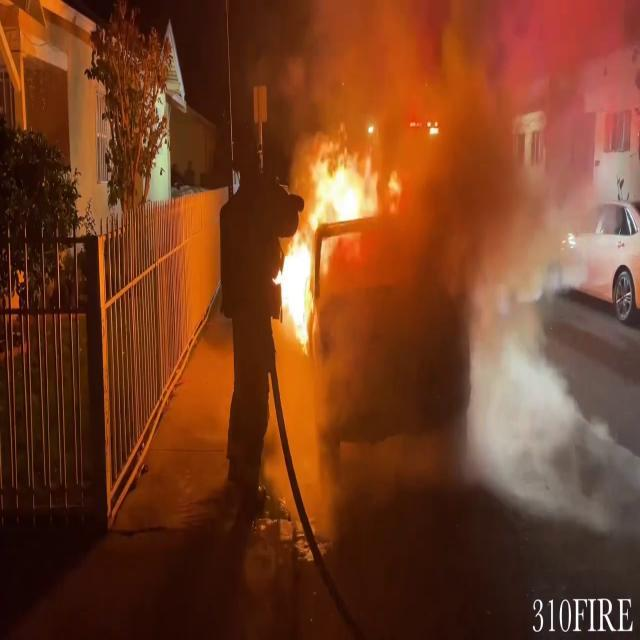Fire: (272, 134, 380, 350)
Smoke: (291, 0, 609, 548)
